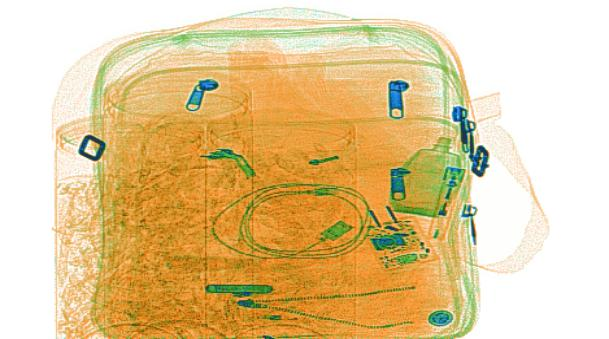lighter: (423, 164, 465, 243)
